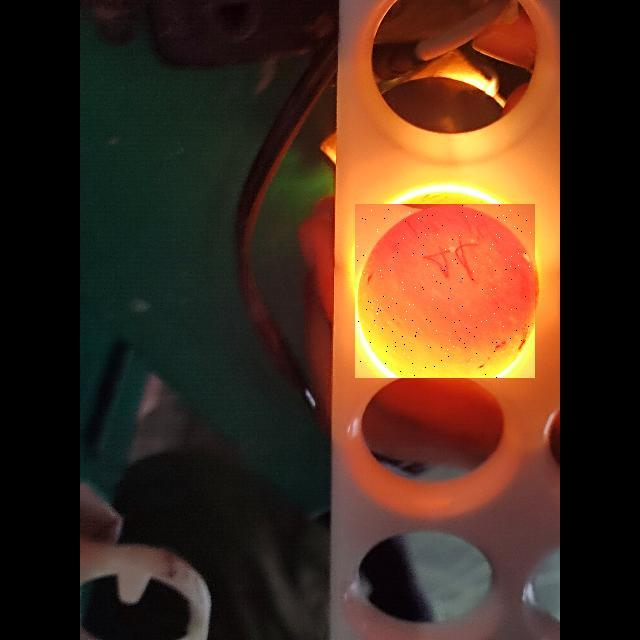Infertile: (355, 204, 535, 378)
